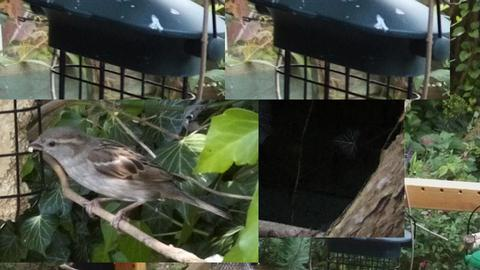sparrow: (25, 124, 234, 238)
